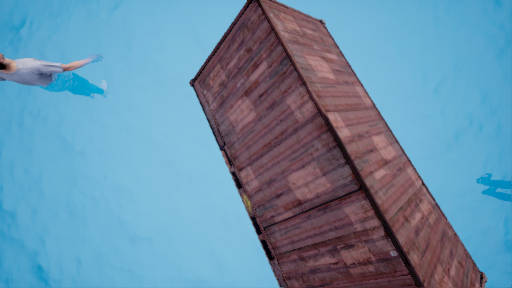person: (4, 48, 114, 107)
